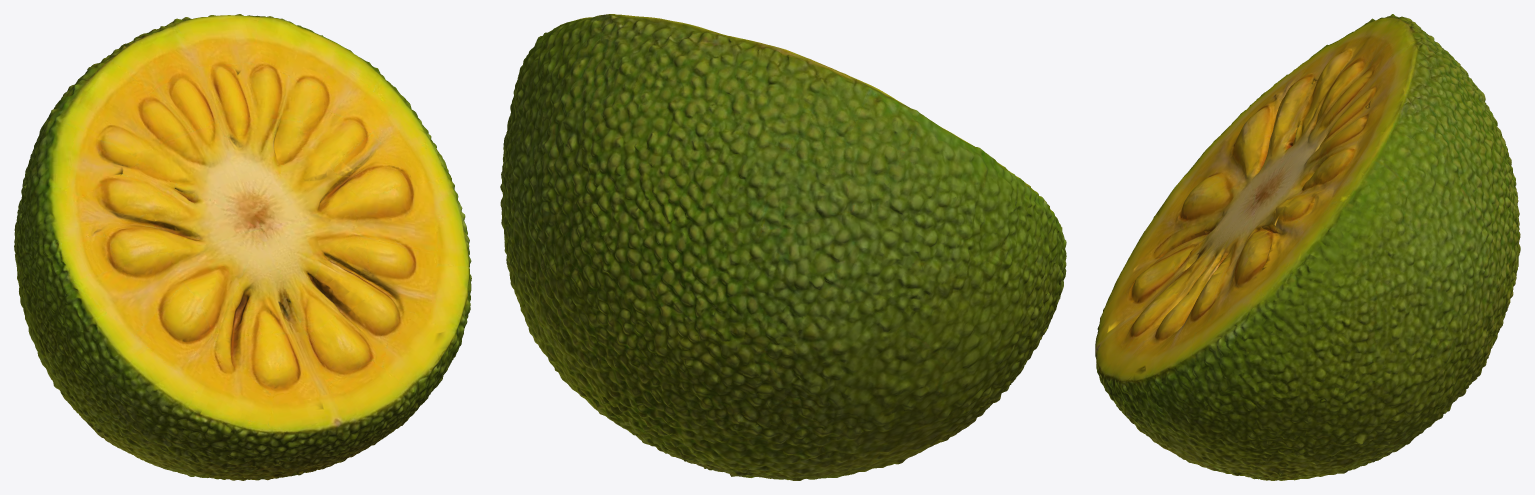
File: jackfruit.glb
3 views of the same model, side by side, from view 1: azimuth 30°, elevation 25°; view 2: azimuth 150°, elevation 25°; view 3: azimuth 270°, elevation 25° (orthographic). The views are drawn at different scales.
Size of the model in its own units: 1.99 by 1.83 by 1.73.
Materials: 1 (1 with a texture image).
